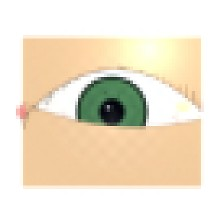pinguecula_lesion: (168, 95, 197, 119)
